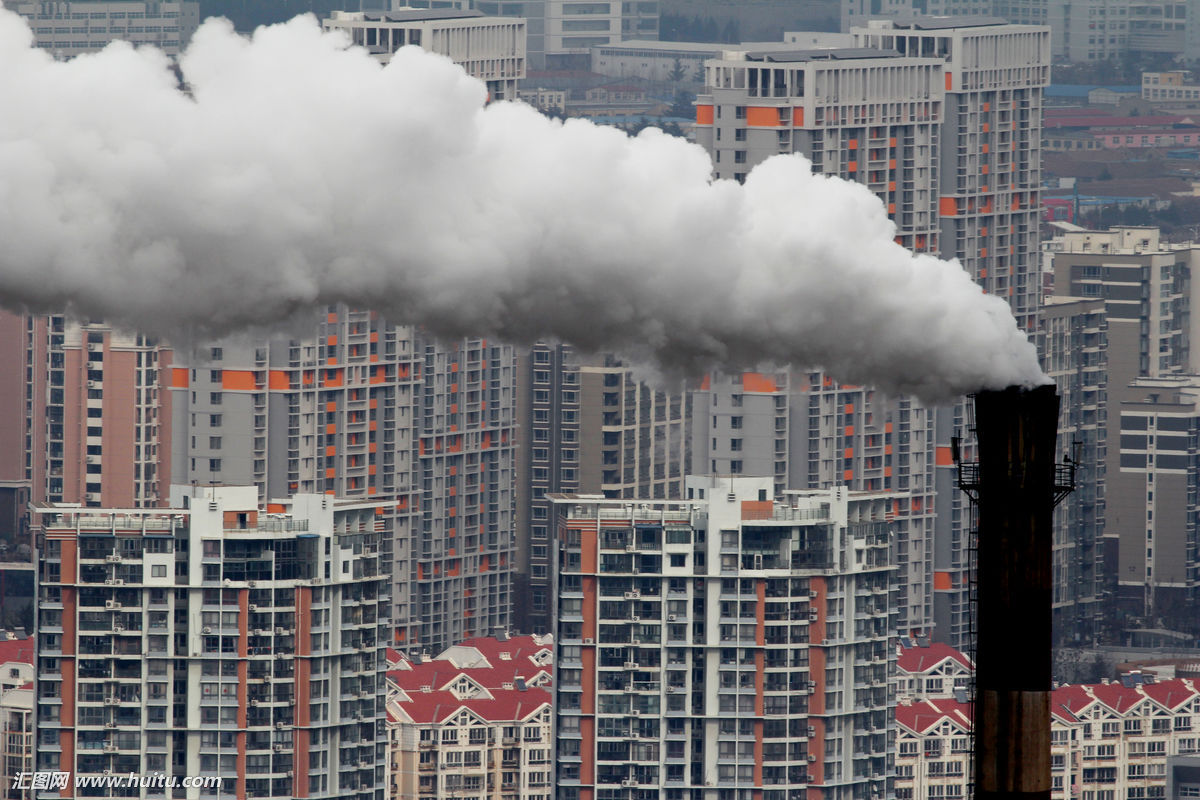dust: (267, 62, 1064, 408)
